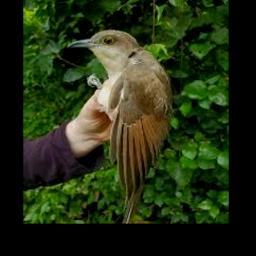Cuckoo: (67, 30, 173, 223)
